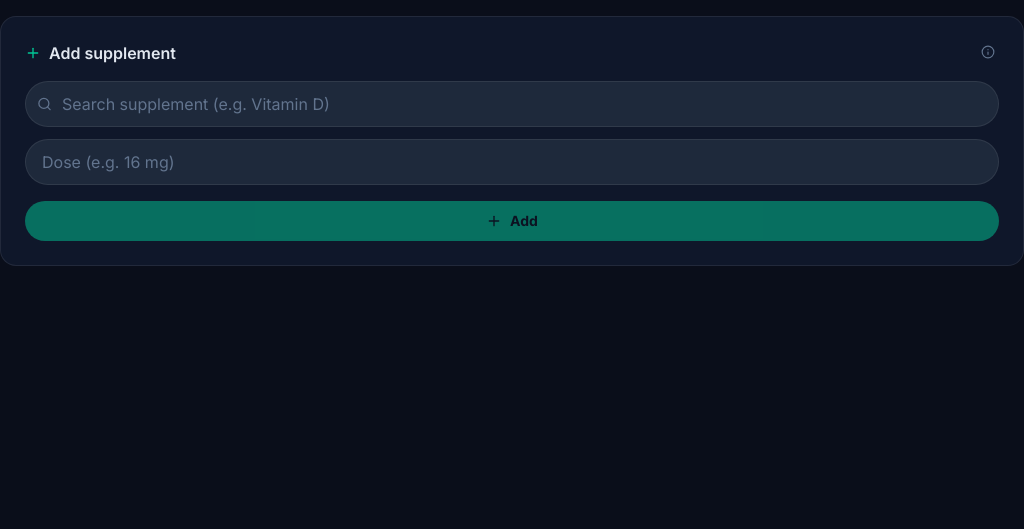
Test: AgregarSuplemento › creates a new catalog entry as pending with created_by and shows submitted-for-review feedback
Step 1. Type "Newthing" into the field with placeholder "Search supplement (e.g. Vitamin D)" → [512, 104], box [25, 81, 999, 127]
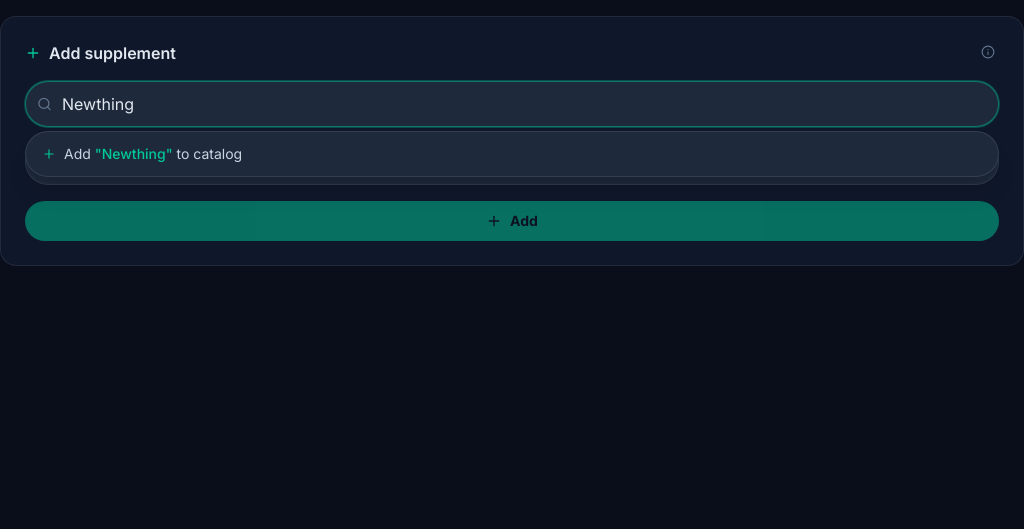
Step 2. Click the element showing "Add \"Newthing\" to catalog" → [142, 154], box [42, 145, 242, 162]
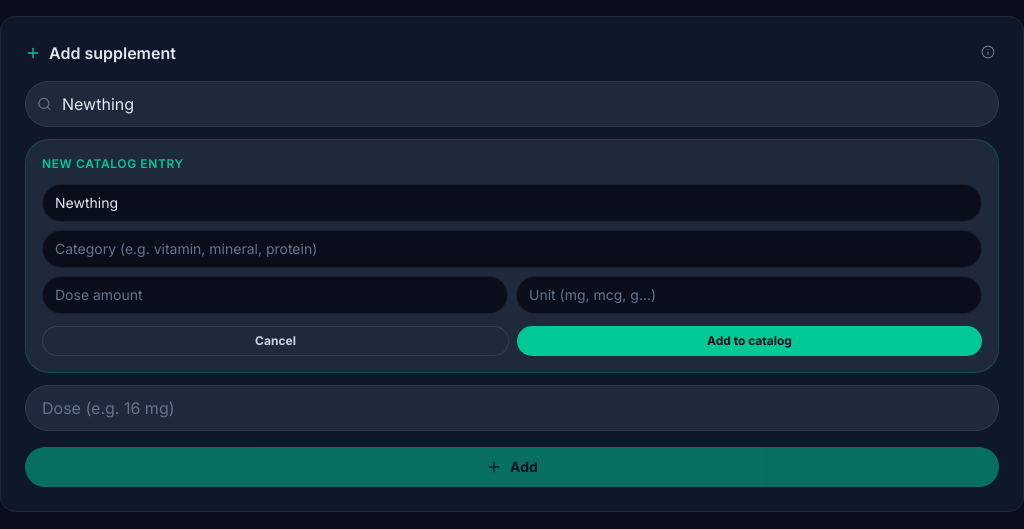
Step 3. Type "vitamin" into the field with placeholder "Category (e.g. vitamin, mineral, protein)" → [512, 249], box [42, 230, 982, 268]
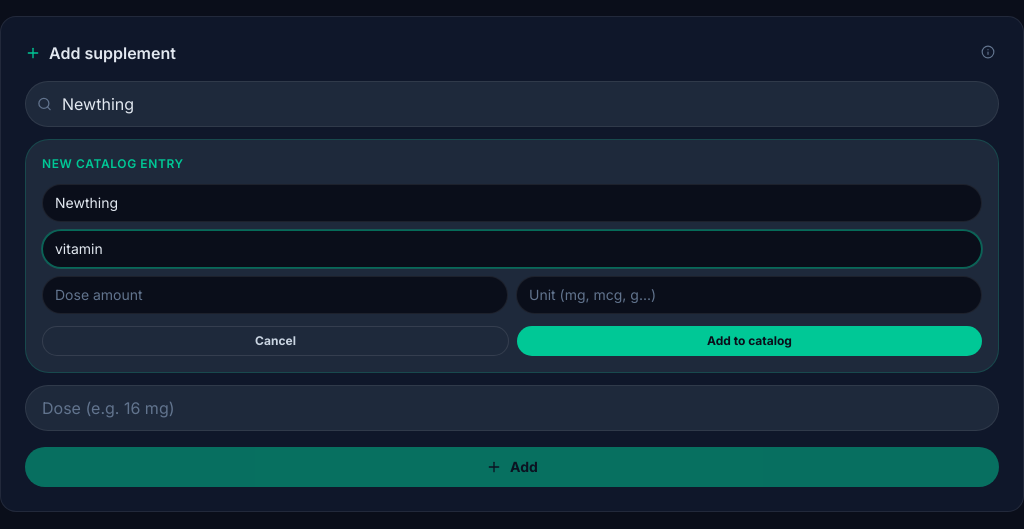
Step 4. Type "100" into the number field with placeholder "Dose amount" → [275, 295], box [42, 276, 508, 314]
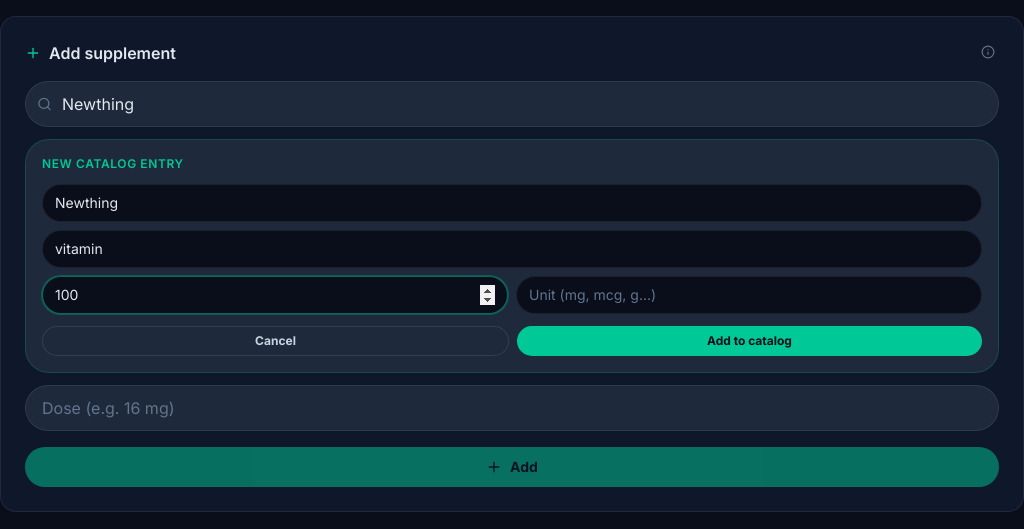
Step 5. Type "mg" into the field with placeholder "Unit (mg, mcg, g...)" → [749, 295], box [516, 276, 982, 314]
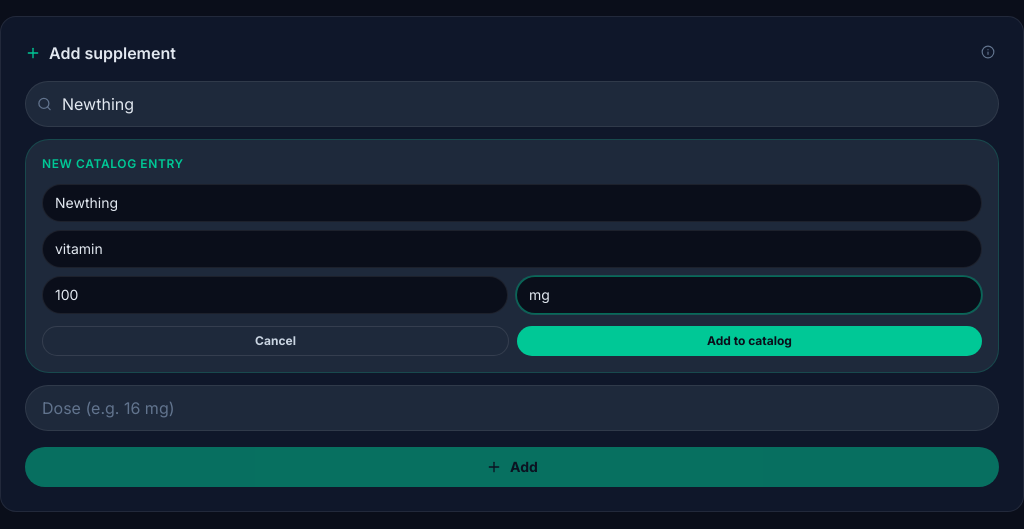
Step 6. Click the button "Add to catalog" → [750, 341], box [517, 326, 982, 356]
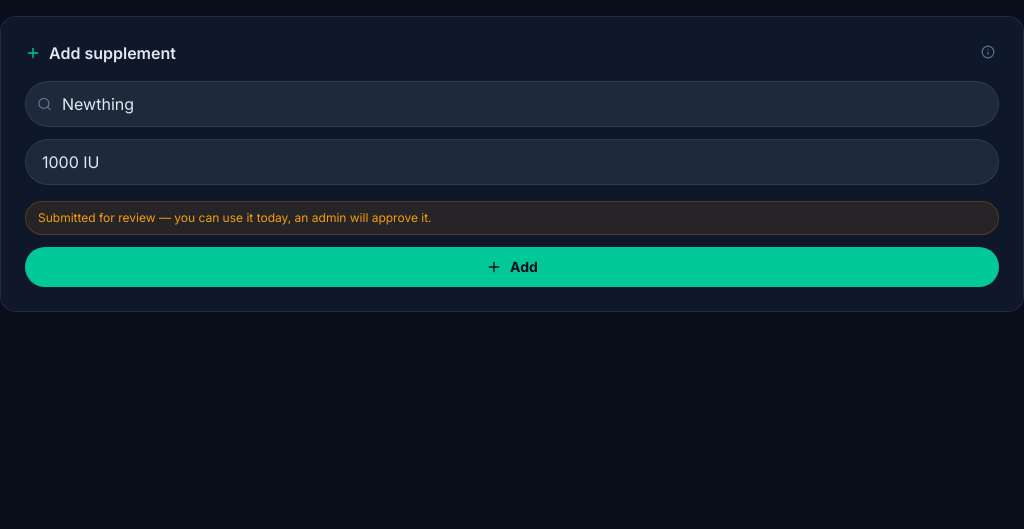
Result: the text "Submitted for review" is shown at [38, 210, 432, 225]
